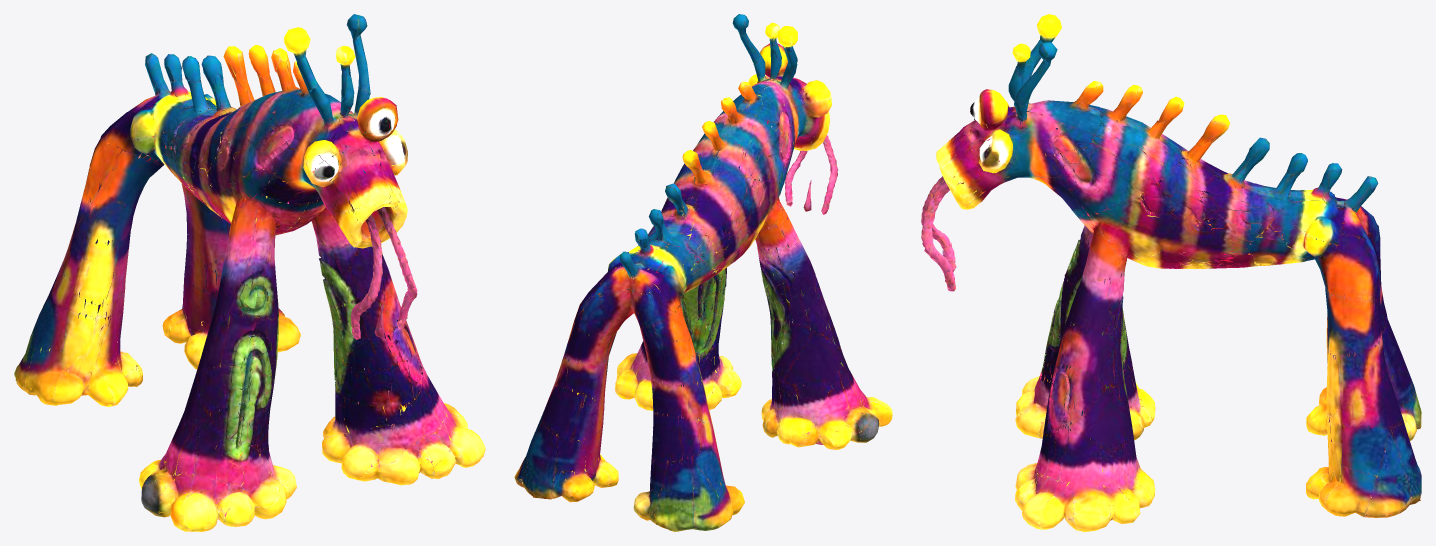
The model's file is Meshy_AI_Rainbow_Plush_Monster_0913045931_texture.glb.
3 renders of one model, left to right at view 1: azimuth 30°, elevation 25°; view 2: azimuth 150°, elevation 25°; view 3: azimuth 270°, elevation 25°, orthographic. The views are drawn at different scales.
Parts seen in each view (by area): view 1: Mesh_0; view 2: Mesh_0; view 3: Mesh_0.
Boxes of the visible parts, bbox=[...] form: Mesh_0: bbox=[14, 14, 485, 531]; Mesh_0: bbox=[514, 14, 892, 531]; Mesh_0: bbox=[921, 14, 1421, 531].
Bounding box in the file's own units: 1.37 × 1.94 × 2.
1 material, 1 textured.
